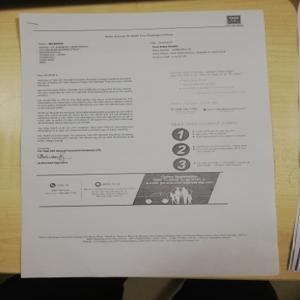text: (35, 71, 136, 146), (144, 38, 225, 62), (35, 41, 92, 66)
